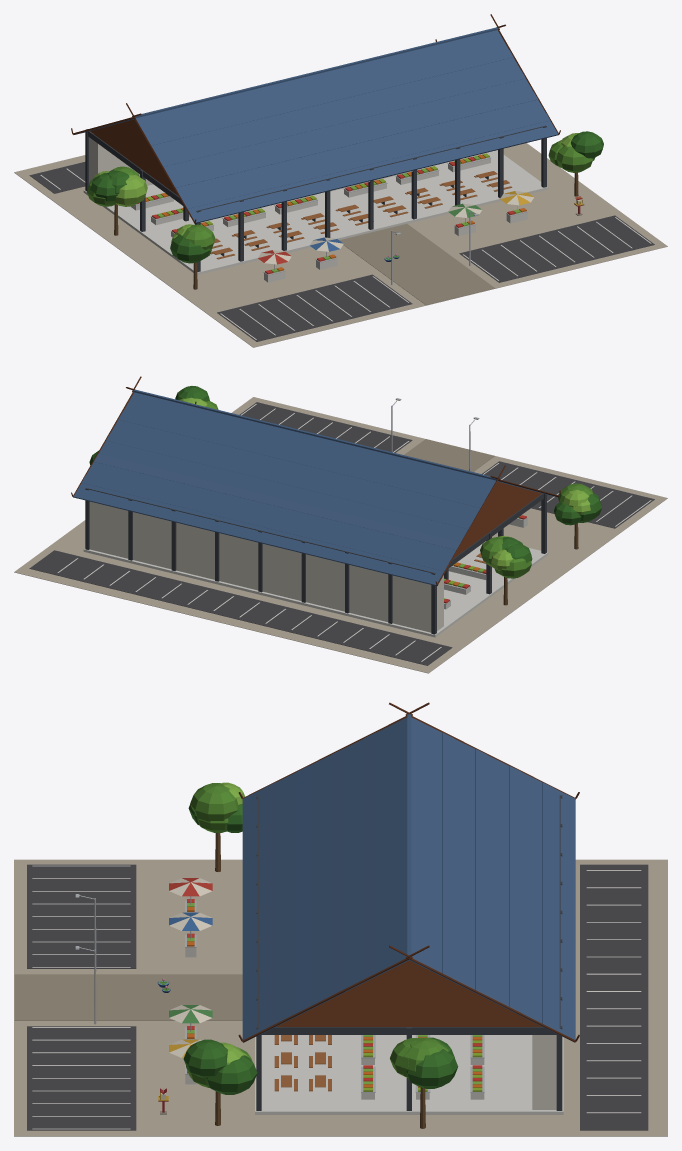
File: market.glb
3 renders of one model, top to bottom at view 1: azimuth 30°, elevation 25°; view 2: azimuth 150°, elevation 25°; view 3: azimuth 270°, elevation 25°, orthographic. The views are drawn at different scales.
Parts seen in each view (by area): view 1: body; view 2: body; view 3: body.
Boxes of the visible parts, x1,y1,x2,y2 form: body: (14, 14, 667, 347); body: (14, 376, 667, 673); body: (14, 702, 667, 1136).
Size of the model in its own units: 50.27 by 14.13 by 47.9.
